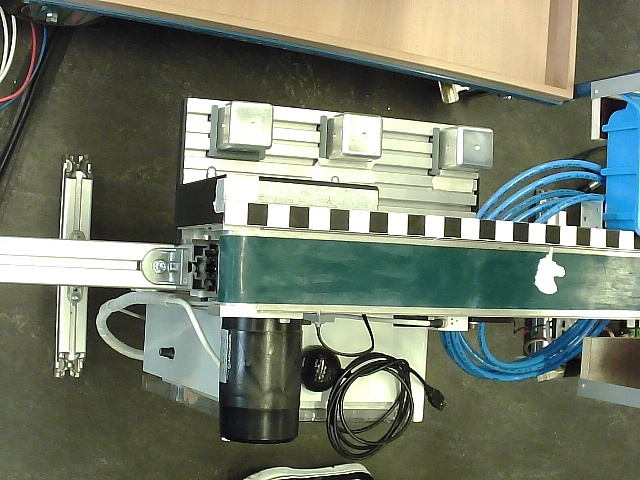unicorn: (534, 246, 566, 295)
